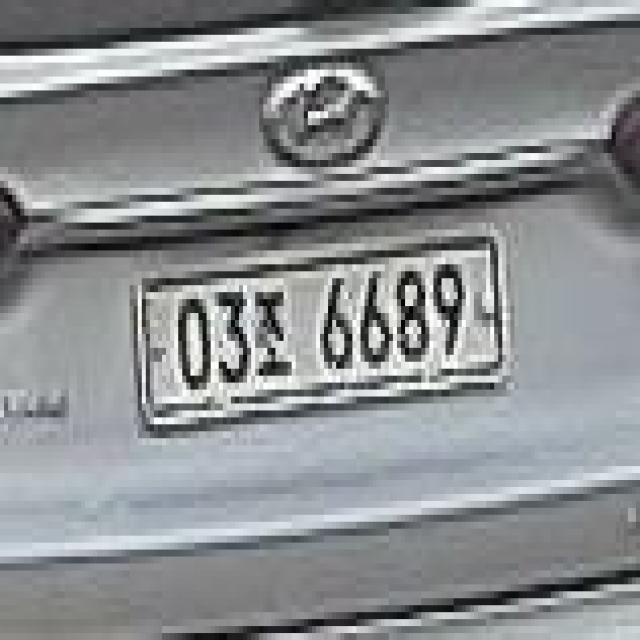illegal_plate: (130, 231, 514, 422)
